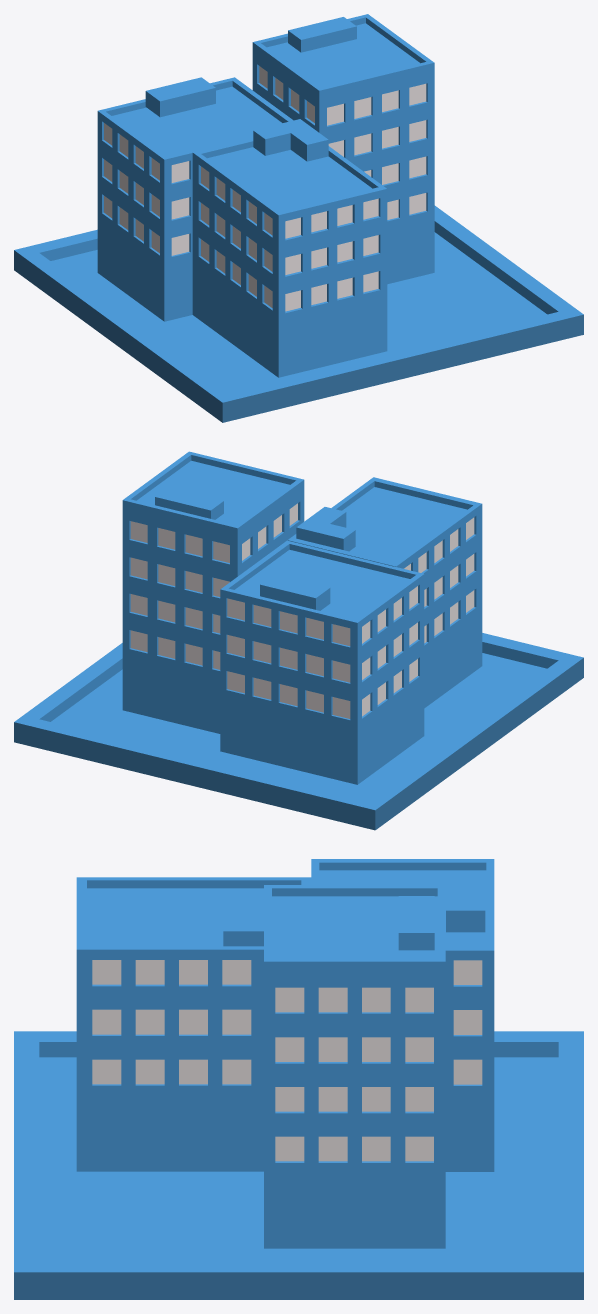
File: blueapartmentlevel1 (1).fbx
3 views of the same model, one above another, from view 1: azimuth 30°, elevation 25°; view 2: azimuth 150°, elevation 25°; view 3: azimuth 270°, elevation 25° (orthographic). The views are drawn at different scales.
Parts seen in each view (by area): view 1: aparmantbaseblue, build2blue, build1blue, build3blue, build2light2blue, build2light3blue, build2light1blue, build1light4blue, build1light3blue, build3light2blue, build3light3blue, build3light1blue (+2 smaller); view 2: build3blue, aparmantbaseblue, build1blue, build2blue, build3light2blue, build3light3blue, build3light1blue, build1light4blue, build1light3blue, build1light1blue, build1light2blue, build2light3blue (+2 smaller); view 3: aparmantbaseblue, build1blue, build2blue, build3blue, build2light2blue, build2light1blue, build1light4blue, build1light1blue, build2light3blue, build1light3blue, build1light2blue, build3light1blue (+2 smaller).
Boxes of the visible parts, left/top/right/bottom form: aparmantbaseblue: left=14, top=205, right=583, bottom=422; build2blue: left=192, top=119, right=387, bottom=377; build1blue: left=252, top=14, right=434, bottom=284; build3blue: left=97, top=77, right=293, bottom=321; build2light2blue: left=201, top=203, right=378, bottom=274; build2light3blue: left=201, top=166, right=378, bottom=238; build2light1blue: left=201, top=239, right=378, bottom=311; build1light4blue: left=259, top=66, right=426, bottom=125; build1light3blue: left=328, top=120, right=426, bottom=156; build3light2blue: left=104, top=159, right=189, bottom=219; build3light3blue: left=104, top=123, right=189, bottom=182; build3light1blue: left=104, top=196, right=189, bottom=255; build3blue: left=220, top=540, right=424, bottom=784; aparmantbaseblue: left=14, top=633, right=583, bottom=830; build1blue: left=122, top=451, right=304, bottom=733; build2blue: left=287, top=477, right=482, bottom=708; build3light2blue: left=227, top=622, right=417, bottom=682; build3light3blue: left=227, top=586, right=417, bottom=645; build3light1blue: left=227, top=659, right=417, bottom=718; build1light4blue: left=130, top=503, right=297, bottom=562; build1light3blue: left=130, top=557, right=229, bottom=596; build1light1blue: left=130, top=630, right=220, bottom=669; build1light2blue: left=130, top=594, right=220, bottom=633; build2light3blue: left=404, top=517, right=474, bottom=572; aparmantbaseblue: left=14, top=1031, right=583, bottom=1299; build1blue: left=264, top=885, right=445, bottom=1248; build2blue: left=76, top=877, right=311, bottom=1171; build3blue: left=311, top=859, right=494, bottom=1171; build2light2blue: left=92, top=1009, right=251, bottom=1034; build2light1blue: left=92, top=1059, right=251, bottom=1084; build1light4blue: left=275, top=987, right=433, bottom=1012; build1light1blue: left=275, top=1136, right=433, bottom=1161; build2light3blue: left=92, top=960, right=251, bottom=984; build1light3blue: left=275, top=1037, right=433, bottom=1061; build1light2blue: left=275, top=1087, right=433, bottom=1111; build3light1blue: left=453, top=1059, right=482, bottom=1084.
Size of the model in its own units: 568 by 340 by 568.
